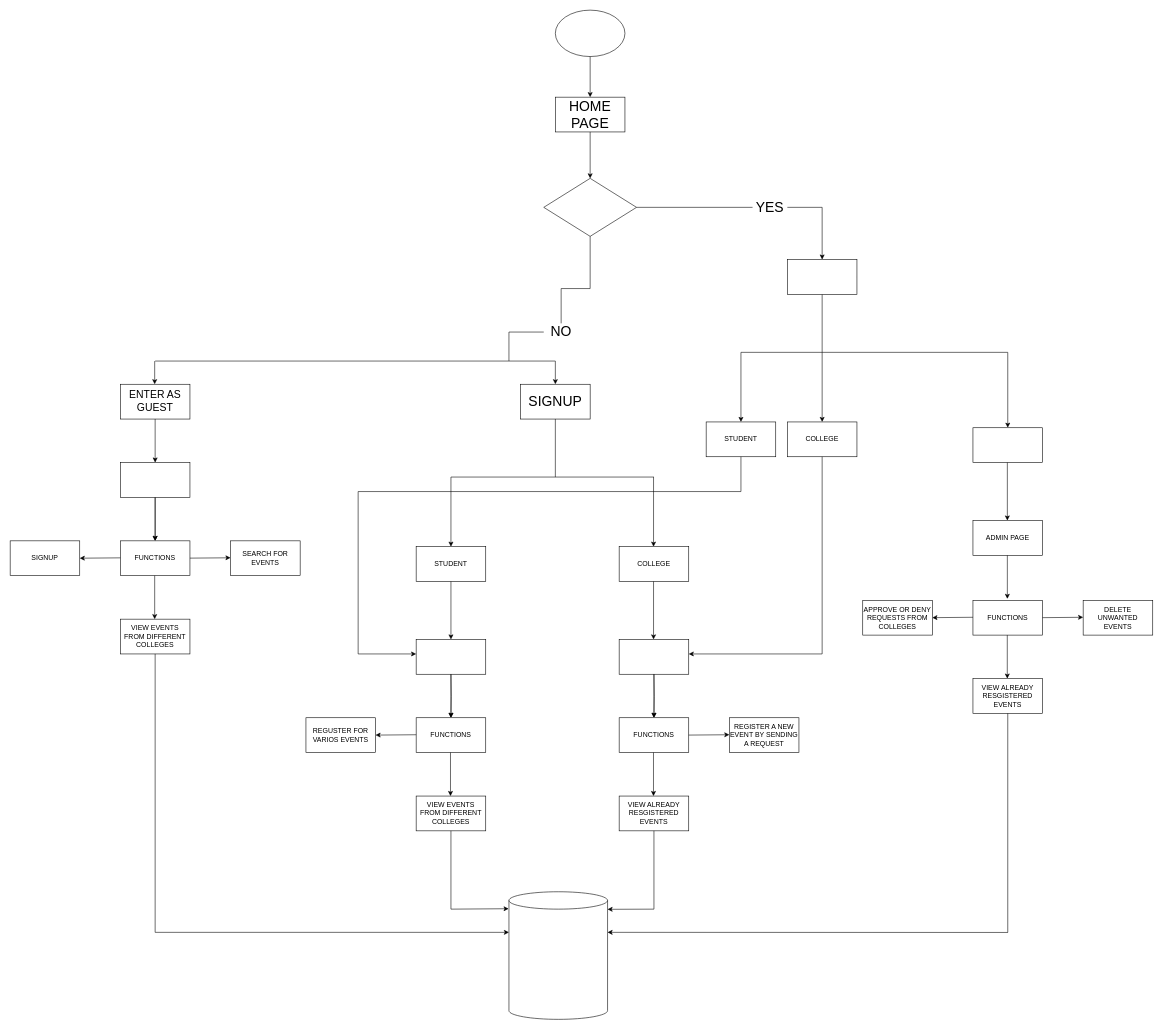
Some shapes in this 1163 by 1030 pixel diagram are drawn without their labels. Here are the shapes that lost their labels. From the top down, the box of each, then its label:
(555, 10, 625, 57): START
(543, 178, 637, 236): DO YOU HAVE AN ACCOUNT
(787, 259, 857, 294): LOGIN
(972, 427, 1043, 463): ADMIN
(120, 462, 190, 497): GUEST EVENT PAGE
(416, 639, 486, 674): STUDENT PAGE
(619, 639, 689, 674): COLLEGE PAGE
(508, 891, 608, 1019): DATABASE
